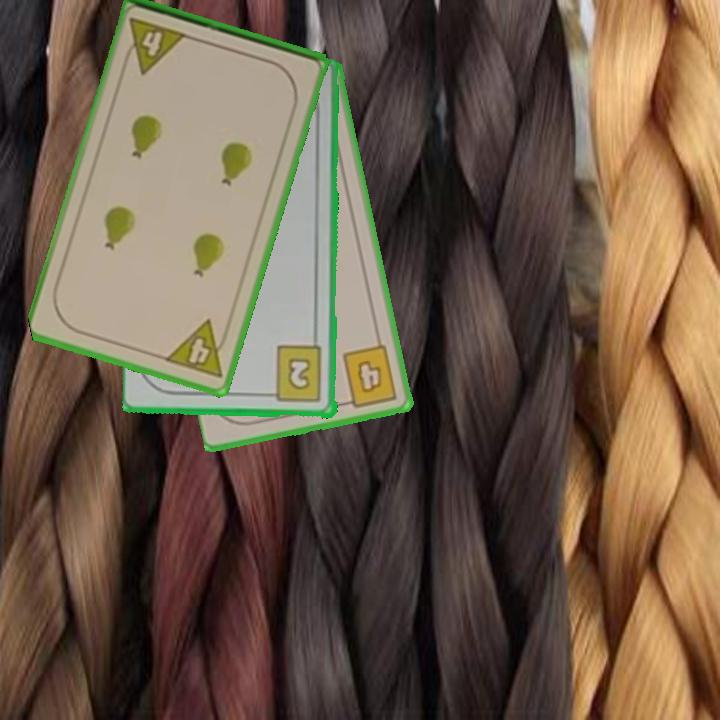2b: (263, 344, 325, 405)
4b: (338, 341, 401, 410)
4p: (161, 316, 234, 382), (119, 14, 190, 77)
